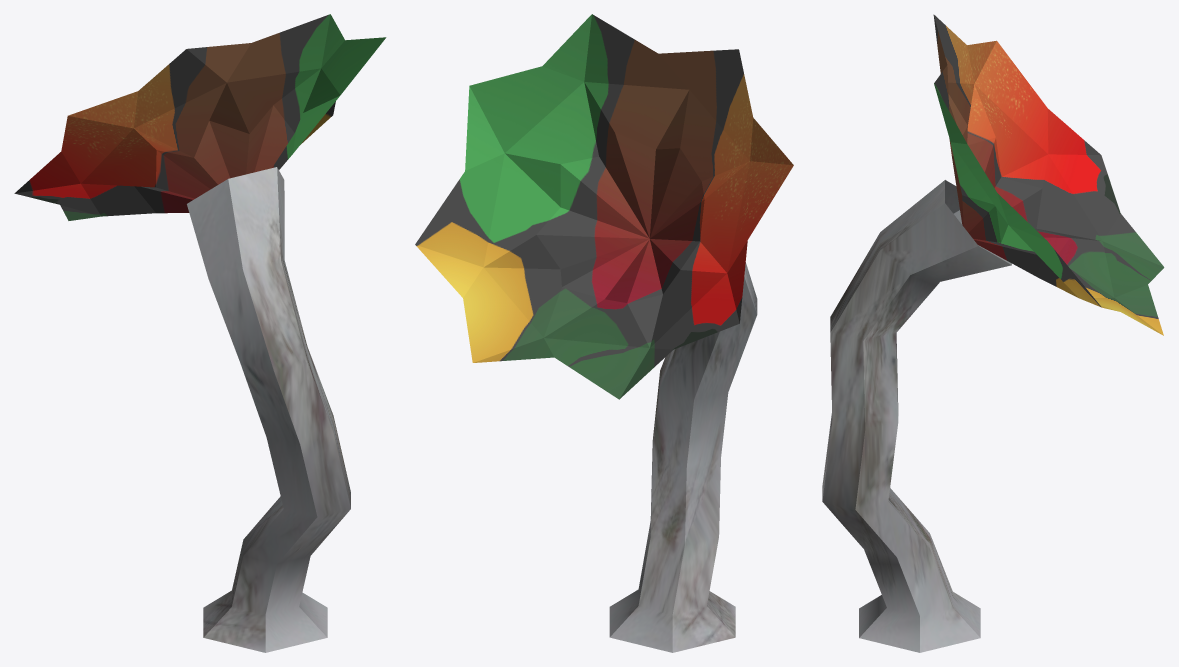
The model's file is Flower.fbx.
3 renders of one model, left to right at view 1: azimuth 30°, elevation 25°; view 2: azimuth 150°, elevation 25°; view 3: azimuth 270°, elevation 25°, orthographic. The views are drawn at different scales.
Parts seen in each view (by area): view 1: Flower; view 2: Flower; view 3: Flower.
Part boxes in pixels (x1=…): Flower: x1=14, y1=14, x2=386, y2=652; Flower: x1=415, y1=14, x2=793, y2=652; Flower: x1=822, y1=14, x2=1164, y2=652.
Size of the model in its own units: 1.28 by 2.24 by 1.21.
Materials: 2 (2 with a texture image).
